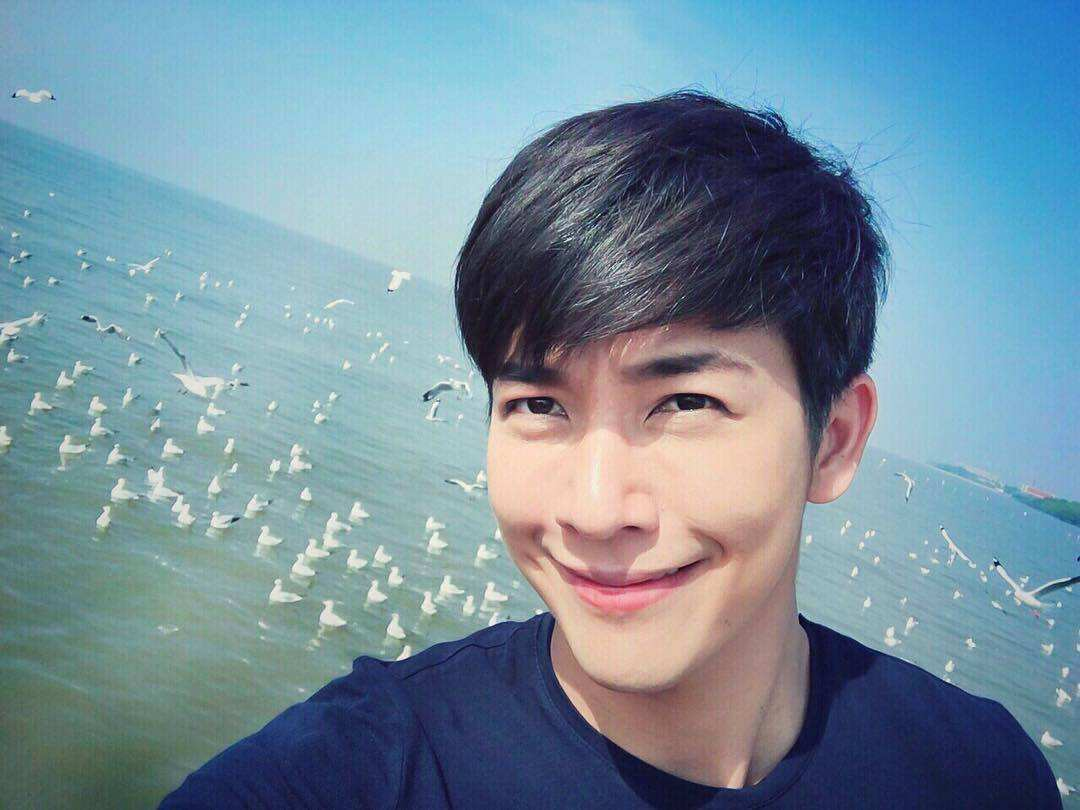person: (306, 74, 913, 810)
